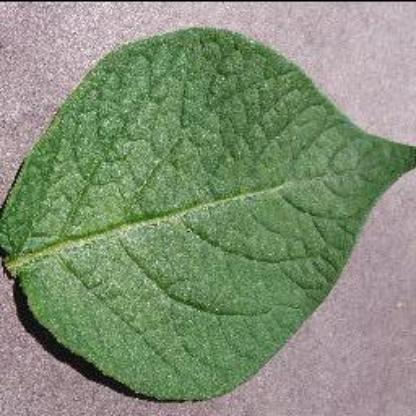Healthy-plant: (3, 25, 415, 401)
